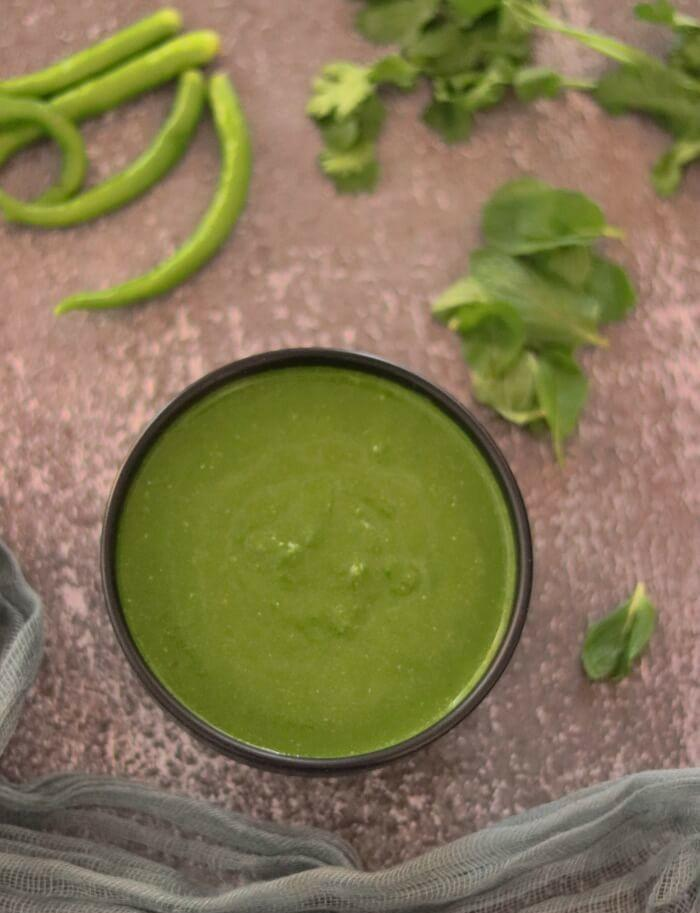GreenChutney: (111, 359, 519, 762)
